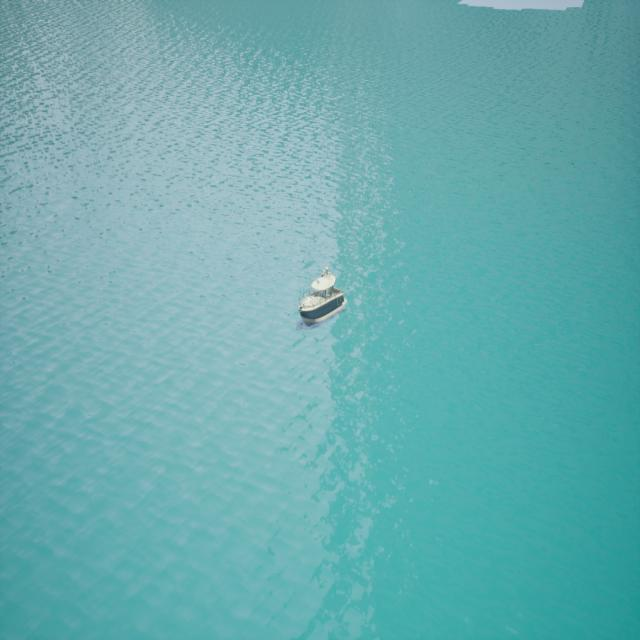ship: (297, 266, 345, 326)
